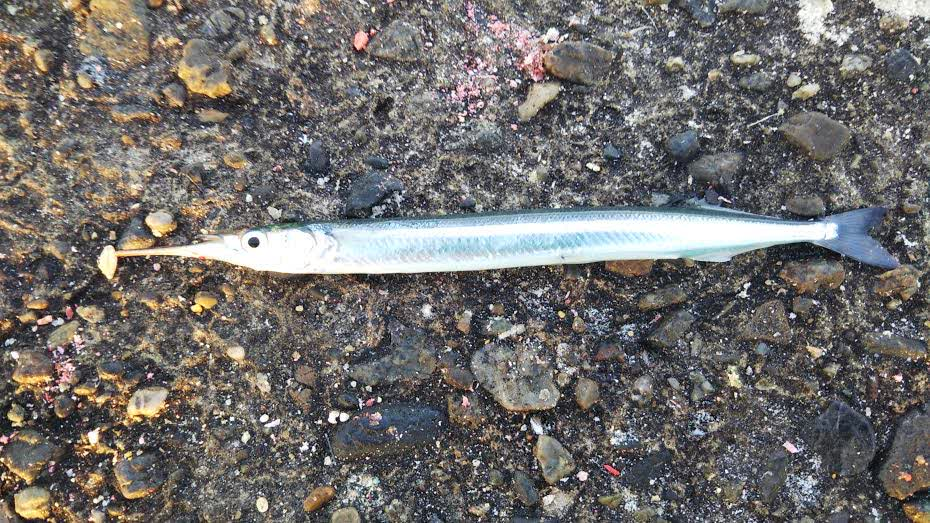sayori: (107, 206, 899, 278)
